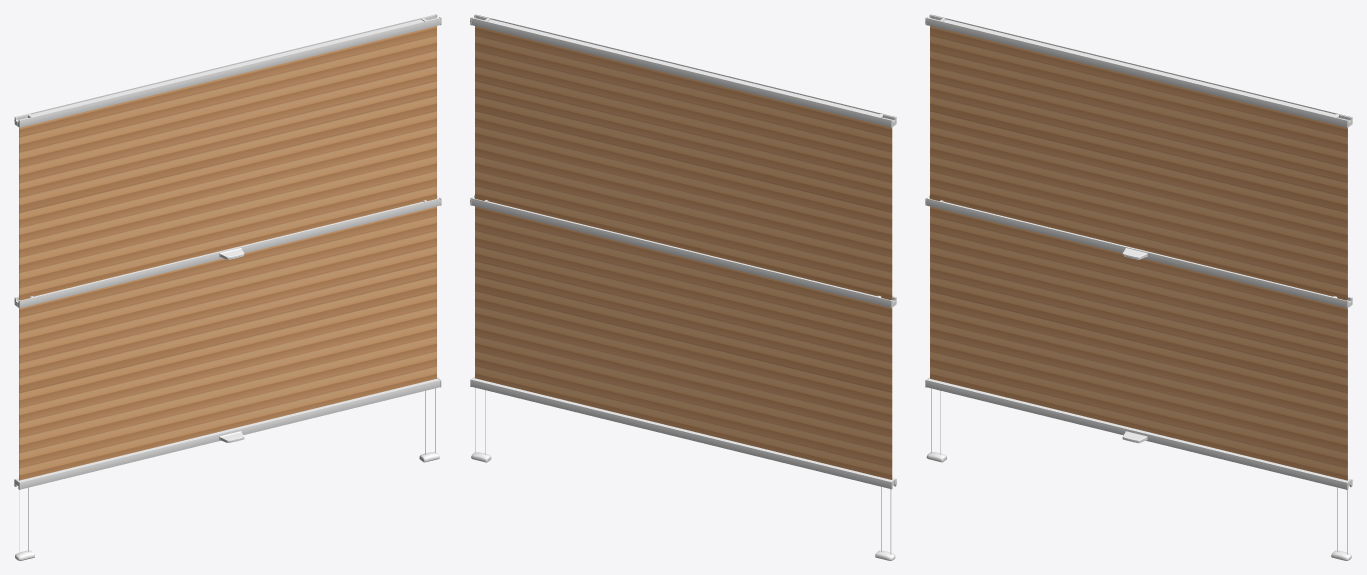
3 views of the same model, side by side, from view 1: azimuth 30°, elevation 25°; view 2: azimuth 150°, elevation 25°; view 3: azimuth 330°, elevation 25° (orthographic).
Visible parts, largest first — view 1: Plane.002, Plane.001, Cube.002, Cube.010, Cube.005; view 2: Plane.002, Plane.001, Cube.002, Cube.010, Cube.005; view 3: Plane.002, Plane.001, Cube.002, Cube.010, Cube.005.
Boxes of the visible parts, x1=… form: Plane.002: x1=19, y1=26, x2=436, y2=300; Plane.001: x1=19, y1=206, x2=436, y2=480; Cube.002: x1=16, y1=14, x2=440, y2=127; Cube.010: x1=16, y1=378, x2=439, y2=489; Cube.005: x1=16, y1=198, x2=440, y2=307; Plane.002: x1=475, y1=26, x2=892, y2=299; Plane.001: x1=475, y1=206, x2=892, y2=479; Cube.002: x1=471, y1=14, x2=894, y2=126; Cube.010: x1=471, y1=377, x2=894, y2=488; Cube.005: x1=471, y1=198, x2=894, y2=307; Plane.002: x1=930, y1=26, x2=1347, y2=300; Plane.001: x1=930, y1=206, x2=1347, y2=480; Cube.002: x1=926, y1=14, x2=1350, y2=127; Cube.010: x1=926, y1=378, x2=1350, y2=489; Cube.005: x1=926, y1=198, x2=1350, y2=307.
Size of the model in its own units: 1 by 0.9995 by 0.0482.
Materials: 6 (2 with a texture image).
